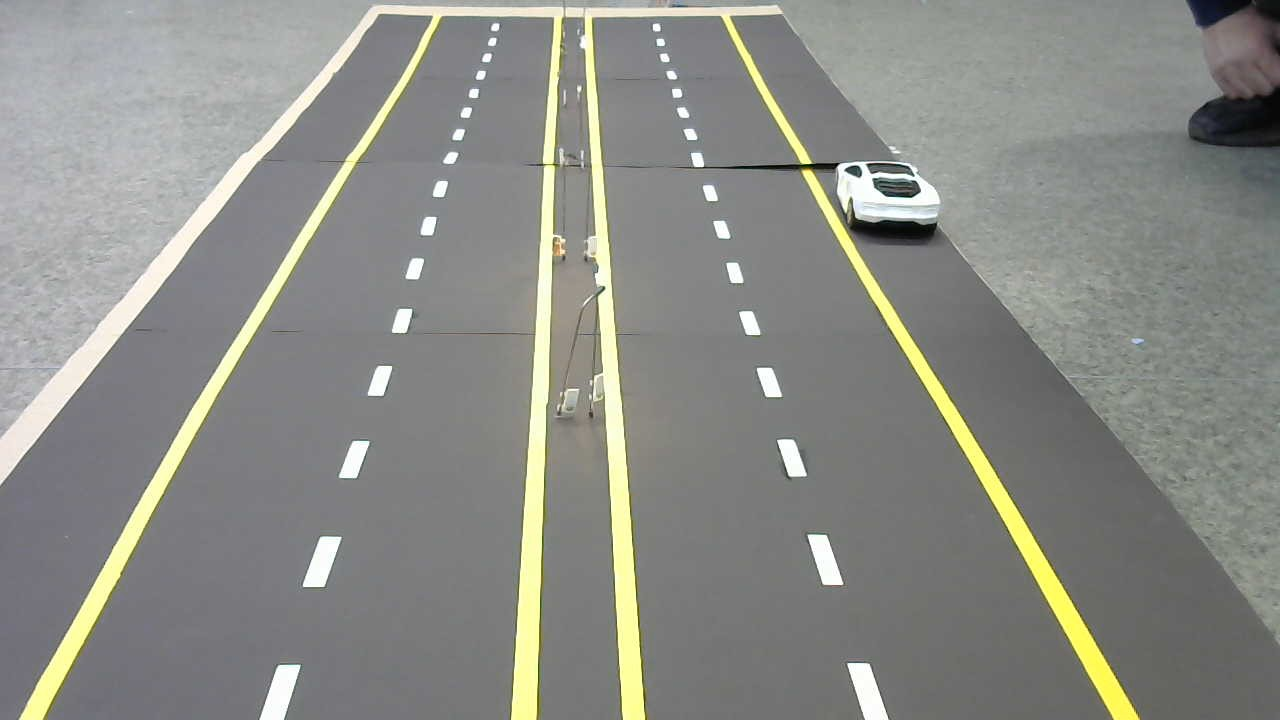back_car: (826, 159, 948, 240)
